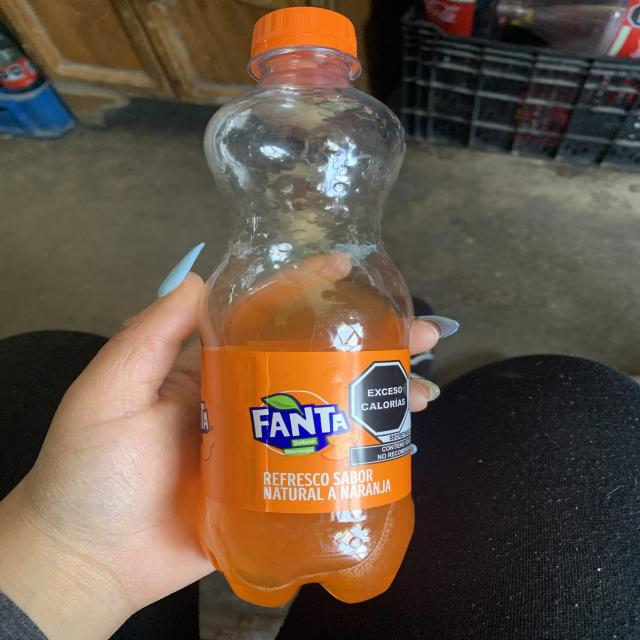plastic_bottle: (194, 6, 418, 607)
